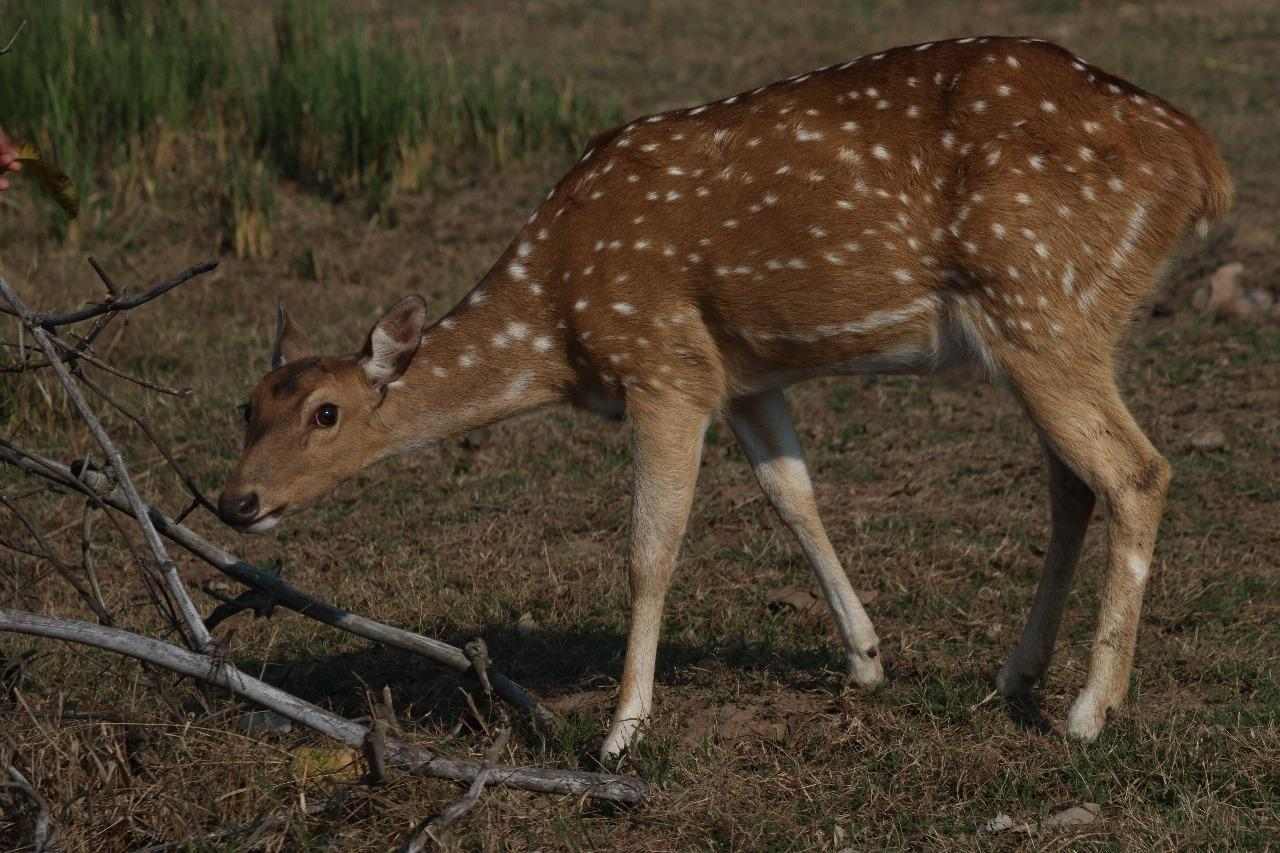Deer: (219, 36, 1232, 758)
